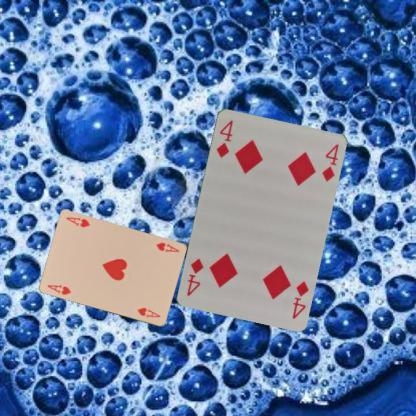4d: (213, 117, 234, 159), (290, 278, 310, 319)
Ah: (45, 282, 72, 296), (154, 240, 180, 253)
